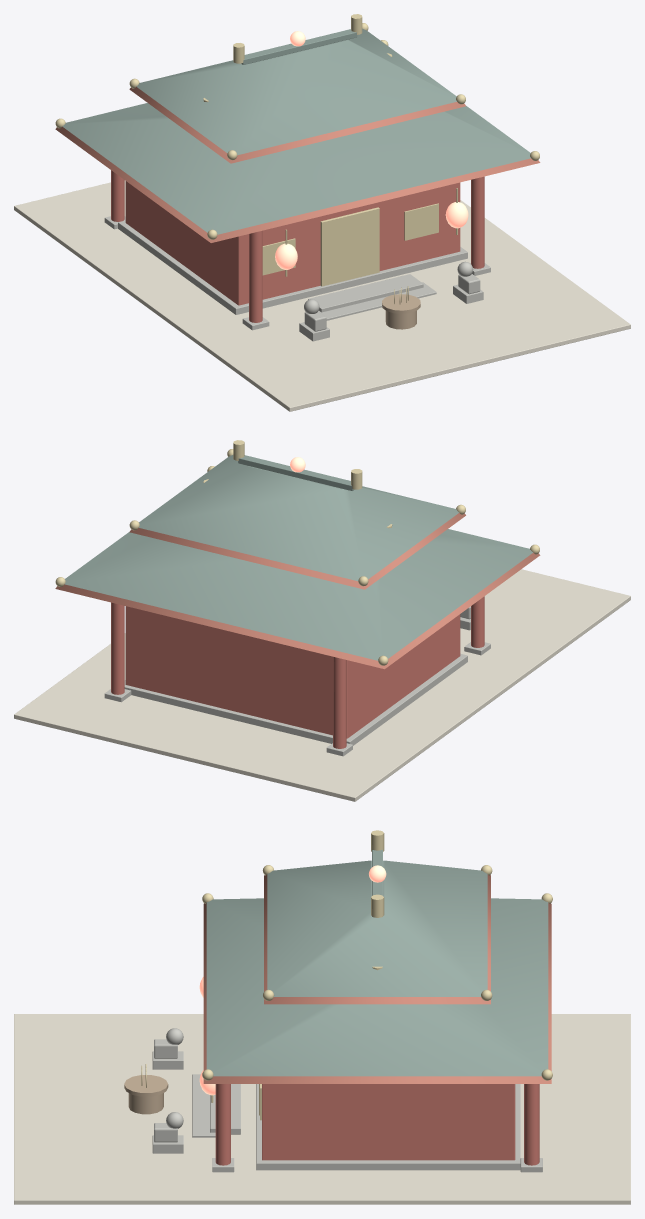
File: LM_ENV_ChineseTemple.glb
3 renders of one model, top to bottom at view 1: azimuth 30°, elevation 25°; view 2: azimuth 150°, elevation 25°; view 3: azimuth 270°, elevation 25°, orthographic. The views are drawn at different scales.
Visible parts, largest first — view 1: ChineseTemple | Roof tile green, ChineseTemple | Plaza stone, ChineseTemple | Tokong red, ChineseTemple | Grey stone, ChineseTemple | Gold trim, ChineseTemple | Eave red, ChineseTemple | Lantern red, ChineseTemple | Urn bronze; view 2: ChineseTemple | Roof tile green, ChineseTemple | Plaza stone, ChineseTemple | Tokong red, ChineseTemple | Eave red, ChineseTemple | Grey stone, ChineseTemple | Gold trim; view 3: ChineseTemple | Roof tile green, ChineseTemple | Plaza stone, ChineseTemple | Tokong red, ChineseTemple | Grey stone, ChineseTemple | Eave red, ChineseTemple | Gold trim, ChineseTemple | Urn bronze, ChineseTemple | Lantern red.
Boxes of the visible parts, box(x1,y1,x2,y2) form: ChineseTemple | Roof tile green: box(62, 28, 530, 234); ChineseTemple | Plaza stone: box(14, 180, 630, 411); ChineseTemple | Tokong red: box(111, 170, 484, 322); ChineseTemple | Grey stone: box(104, 216, 490, 341); ChineseTemple | Gold trim: box(55, 14, 539, 304); ChineseTemple | Eave red: box(55, 86, 540, 242); ChineseTemple | Lantern red: box(275, 31, 468, 269); ChineseTemple | Urn bronze: box(382, 294, 420, 329); ChineseTemple | Roof tile green: box(65, 455, 532, 660); ChineseTemple | Plaza stone: box(14, 569, 630, 801); ChineseTemple | Tokong red: box(111, 596, 484, 748); ChineseTemple | Eave red: box(55, 513, 540, 669); ChineseTemple | Grey stone: box(104, 606, 490, 756); ChineseTemple | Gold trim: box(55, 440, 539, 665); ChineseTemple | Roof tile green: box(206, 849, 548, 1076); ChineseTemple | Plaza stone: box(14, 1014, 630, 1204); ChineseTemple | Tokong red: box(215, 1084, 539, 1165); ChineseTemple | Grey stone: box(152, 1028, 542, 1172); ChineseTemple | Eave red: box(203, 874, 551, 1083); ChineseTemple | Gold trim: box(141, 830, 552, 1120); ChineseTemple | Urn bronze: box(124, 1075, 168, 1114); ChineseTemple | Lantern red: box(199, 865, 386, 1095).
Size of the model in its own units: 20 by 12.35 by 28.
